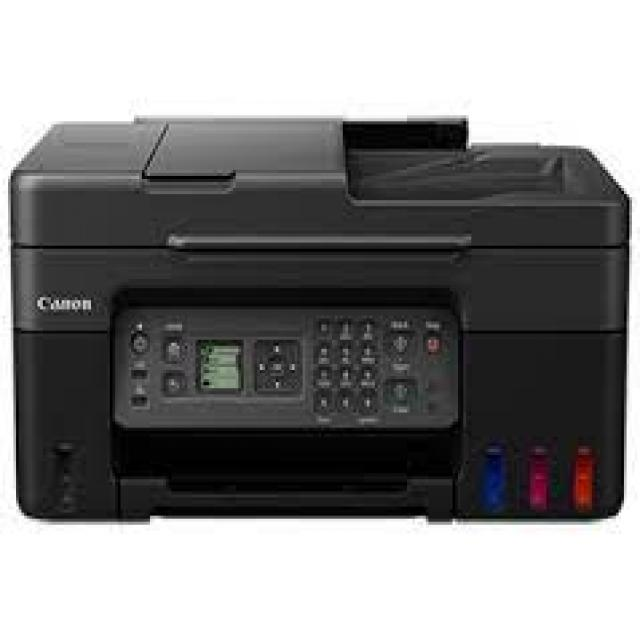printer: (2, 91, 640, 547)
